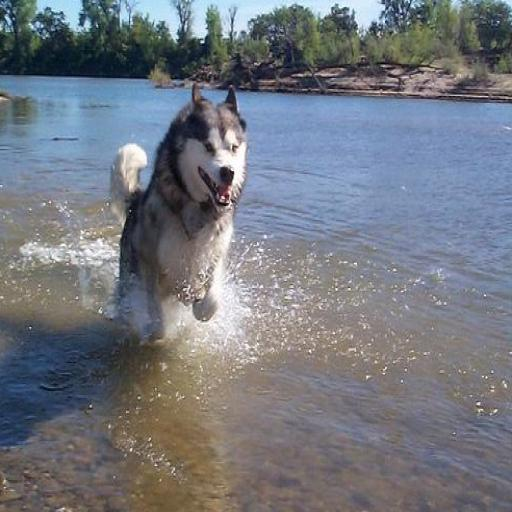dog_face: (180, 75, 252, 219)
